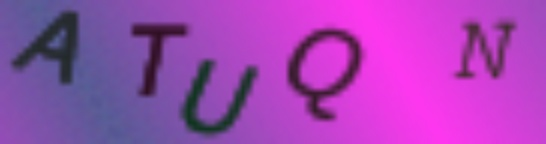A: (12, 9, 83, 89)
N: (458, 21, 517, 82)
Q: (280, 25, 364, 121)
T: (126, 20, 190, 100)
U: (176, 57, 260, 139)
